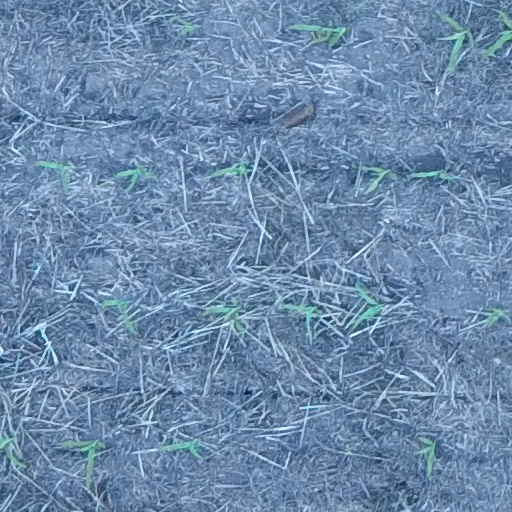planta: (439, 12, 478, 74), (59, 439, 105, 491), (280, 303, 323, 343), (349, 284, 382, 331), (201, 305, 246, 337), (98, 298, 136, 332), (358, 164, 402, 192), (154, 435, 205, 459), (34, 159, 70, 191), (113, 163, 156, 189), (287, 23, 338, 44), (415, 435, 437, 479), (208, 161, 248, 178), (171, 14, 197, 38), (409, 168, 453, 181), (321, 26, 348, 47), (485, 307, 506, 325)
